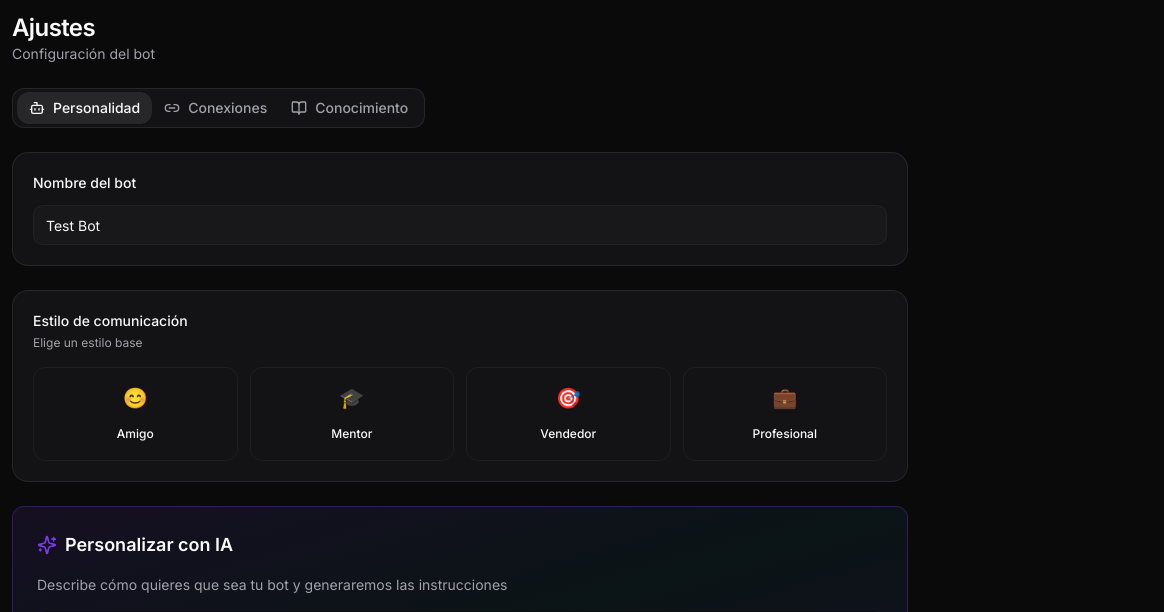
Scenario: Settings Page › can switch to Conocimiento tab
Click the text "Conocimiento". click: point(362, 108)
box: left=315, top=98, right=408, bottom=118
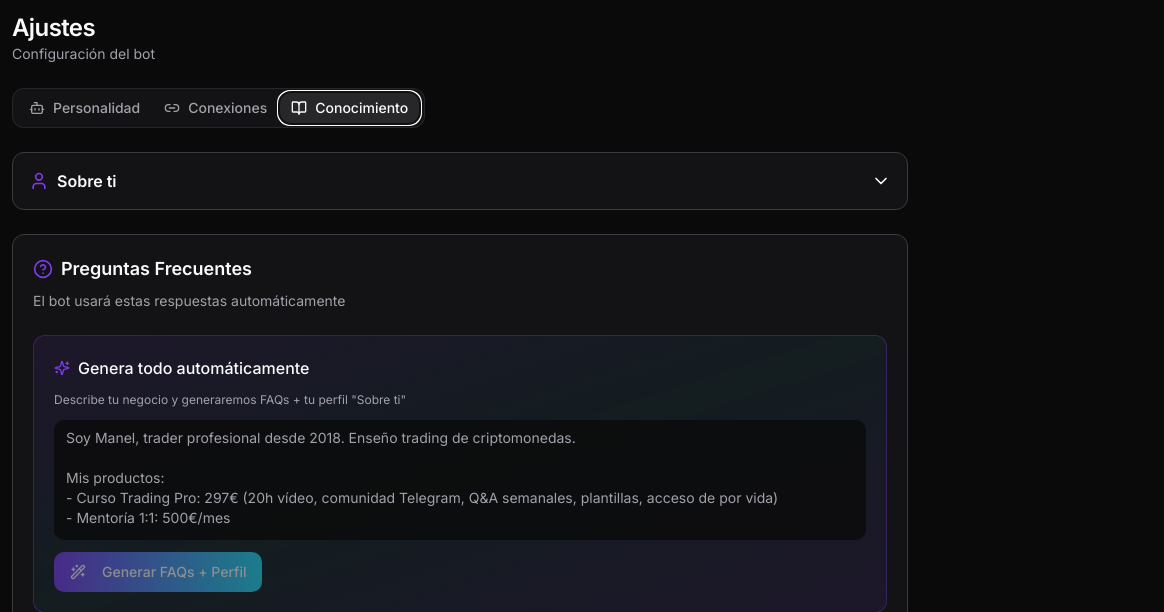
Now the heading "Preguntas Frecuentes" is shown, box left=61, top=255, right=252, bottom=283
Now the text "Sobre ti" is shown, box left=57, top=169, right=116, bottom=193
